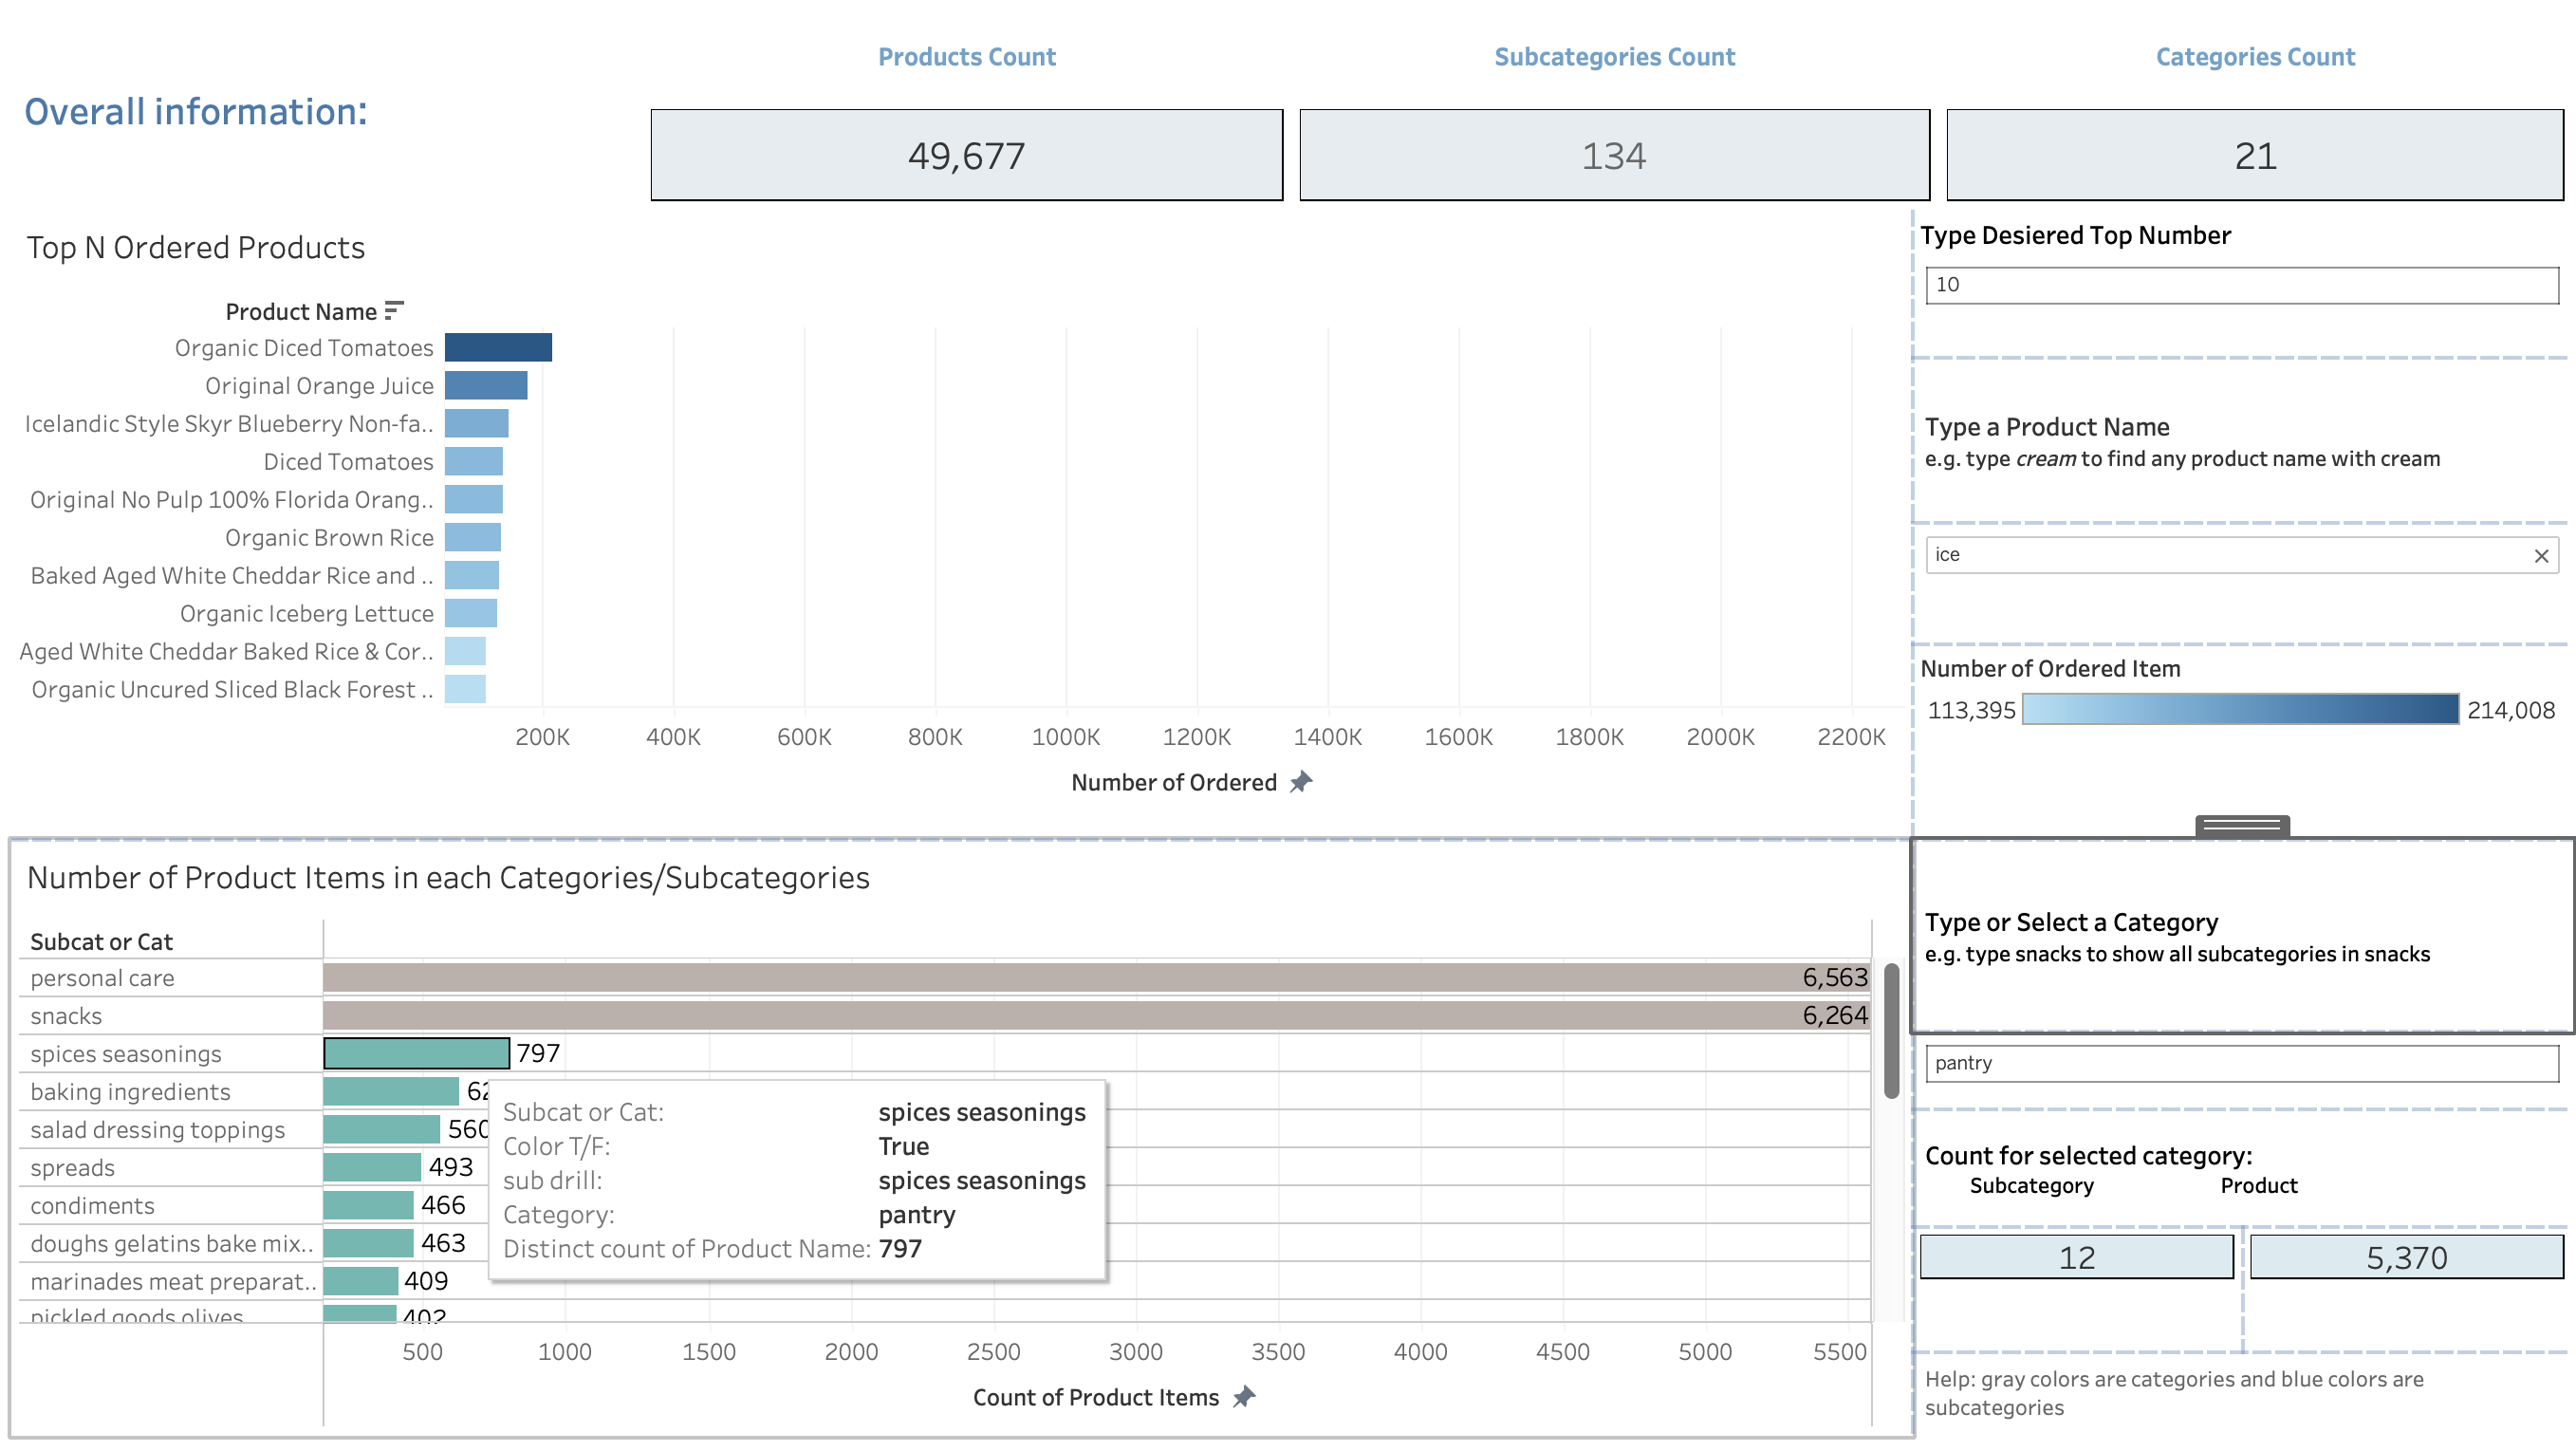

The dashboard page shown, as its layout file describes it:
{"tool":"tableau","page":{"name":"Detail of Products","canvas":[1366,768],"ordinal":1},"visuals":[{"type":"text","box":[8,8,333,106]},{"type":"text","box":[341,8,342,49]},{"type":"text","box":[683,8,341,49]},{"type":"text","box":[1024,8,334,49]},{"type":"worksheet","title":"Count Product Item","mark":"Automatic","box":[341,57,342,57]},{"type":"worksheet","title":"Count Subcategory","mark":"Automatic","box":[683,57,341,57]},{"type":"worksheet","title":"Count Category","mark":"Automatic","box":[1024,57,334,57]},{"type":"worksheet","title":"ordered item details","mark":"Automatic","rows":["product_name"],"cols":["add_to_cart_order"],"box":[8,114,1002,332.3]},{"type":"parameter","param":"[Parameters].[Parameter 3]","box":[1010,114,348,78]},{"type":"text","box":[1010,192,348,87]},{"type":"filter","title":"ordered item details","param":"[federated.1jtxzk3052du0b10t16680616ej8].[none:product_name:nk]","box":[1010,279,348,64]},{"type":"legend","title":"ordered item details","param":"[federated.1jtxzk3052du0b10t16680616ej8].[sum:add_to_cart_order:qk]","box":[1010,343,348,103]},{"type":"text","box":[1010,446,348,101]},{"type":"worksheet","title":"cat/ count vs order","mark":"Automatic","rows":["department","Calculation_767582326595428358","Calculation_774337726347616263"],"cols":["product_name"],"box":[8,446.3,1002,313.7]},{"type":"parameter","param":"[Parameters].[Parameter 2]","box":[1010,547,348,41]},{"type":"text","box":[1010,588,348,62]},{"type":"worksheet","title":"Count Subcategory-filter","mark":"Automatic","box":[1010,650,174,66]},{"type":"worksheet","title":"Count Product Item-filter","mark":"Automatic","box":[1184,650,174,66]},{"type":"text","box":[1010,716,348,44]}]}

Visuals, with their boxes in screenshot pixels (x1, y1, x2, y2), scaled from the page's 1366x768 canvas onto the 2576x1451 screenshot:
text: 15:15:643:215
text: 643:15:1288:107
text: 1288:15:1931:107
text: 1931:15:2561:107
"Count Product Item" worksheet: 643:107:1288:215
"Count Subcategory" worksheet: 1288:107:1931:215
"Count Category" worksheet: 1931:107:2561:215
"ordered item details" worksheet: 15:215:1904:844
parameter: 1904:215:2561:363
text: 1904:363:2561:527
"ordered item details" filter: 1904:527:2561:648
"ordered item details" legend: 1904:648:2561:843
text: 1904:843:2561:1033
"cat/ count vs order" worksheet: 15:844:1904:1436
parameter: 1904:1033:2561:1111
text: 1904:1111:2561:1228
"Count Subcategory-filter" worksheet: 1904:1228:2233:1352
"Count Product Item-filter" worksheet: 2233:1228:2561:1352
text: 1904:1352:2561:1436
